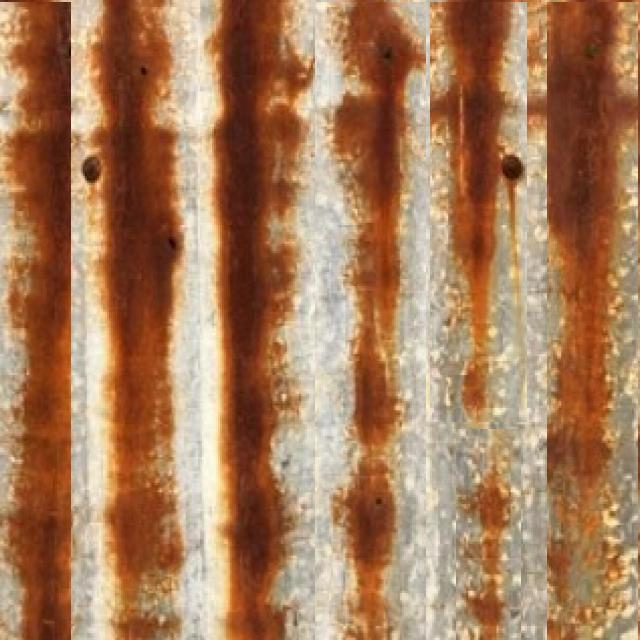Corrosion: (215, 0, 311, 640), (94, 0, 182, 640), (335, 0, 422, 640), (549, 0, 621, 601), (10, 1, 70, 640), (446, 0, 511, 420)
